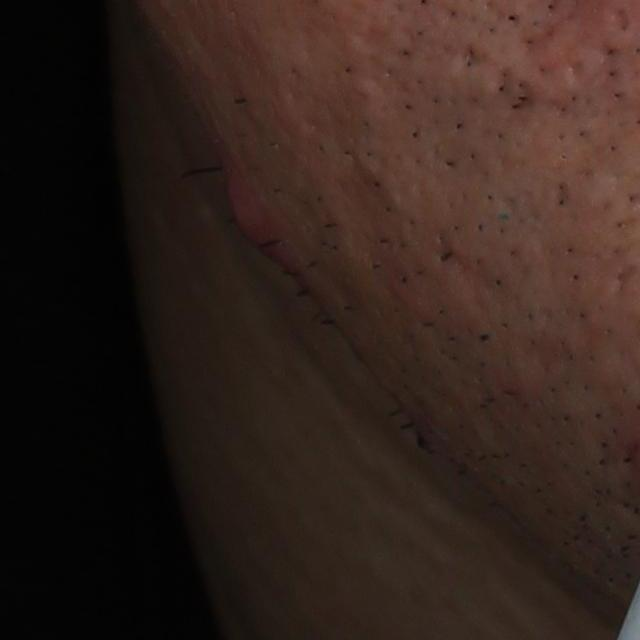atrophic_scar: (421, 227, 509, 306)
papule: (225, 164, 276, 257)
